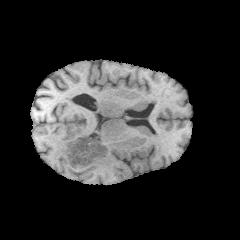glioma: (54, 128, 114, 171)
